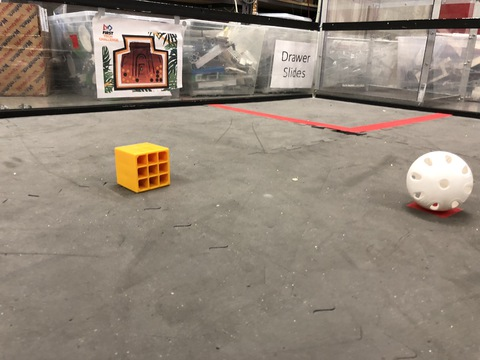ball: (405, 148, 476, 221)
block: (103, 141, 183, 199)
